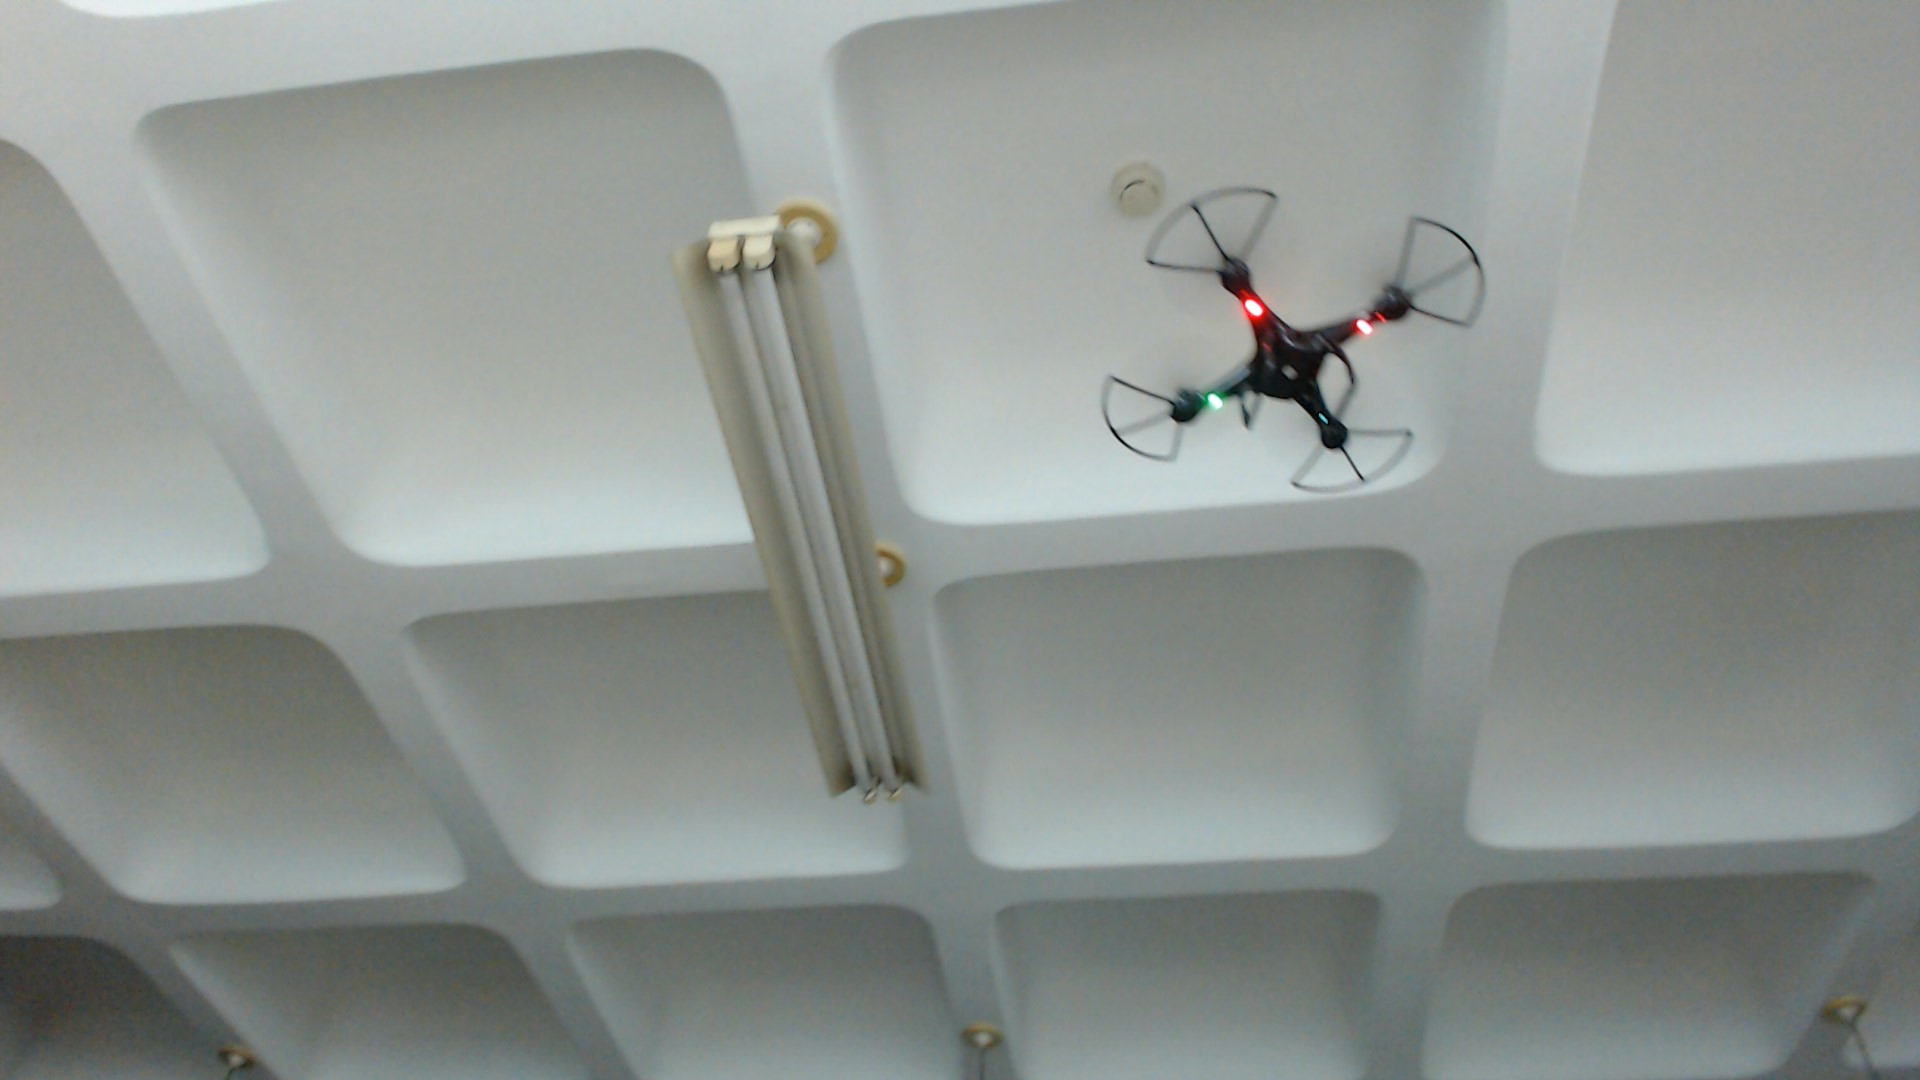test_drone: (1096, 183, 1491, 501)
